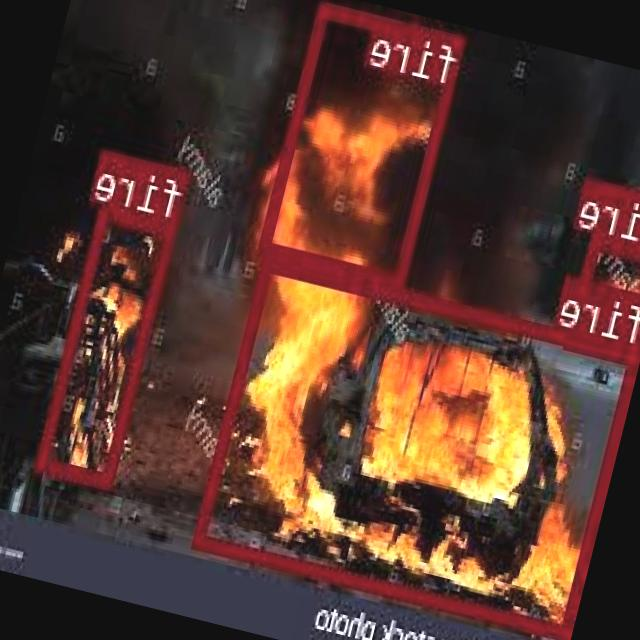fire: (194, 253, 640, 638), (261, 0, 468, 289), (36, 202, 180, 488), (567, 231, 640, 361)
